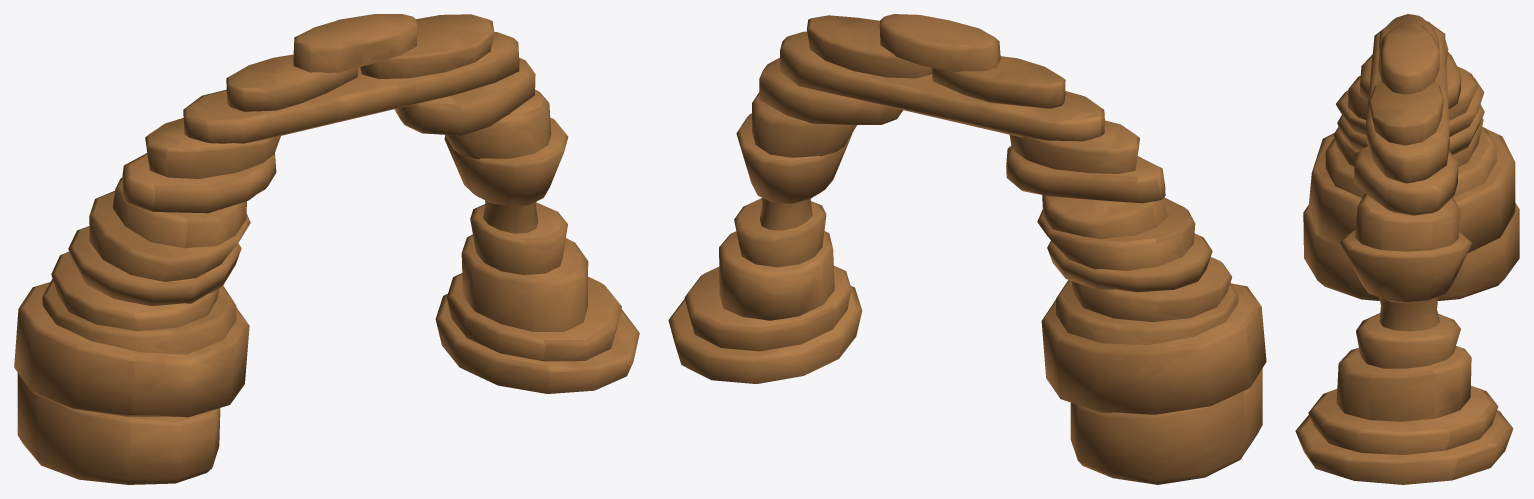
File: Rock_Arch.glb
3 renders of one model, left to right at view 1: azimuth 30°, elevation 25°; view 2: azimuth 150°, elevation 25°; view 3: azimuth 270°, elevation 25°, orthographic. The views are drawn at different scales.
Parts seen in each view (by area): view 1: Rock_Arch; view 2: Rock_Arch; view 3: Rock_Arch.
Part boxes in pixels (left/top/right/bottom): Rock_Arch: left=14, top=14, right=639, bottom=484; Rock_Arch: left=668, top=14, right=1266, bottom=484; Rock_Arch: left=1295, top=14, right=1519, bottom=484.
Size of the model in its own units: 829 by 495 by 308.
1 material, 1 textured.
